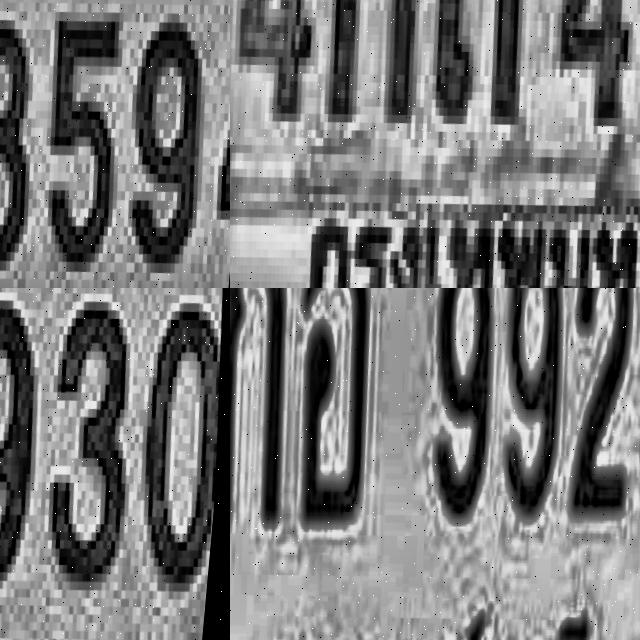license-plate: (230, 288, 640, 640), (230, 0, 640, 288), (0, 288, 230, 640), (0, 0, 230, 288)
